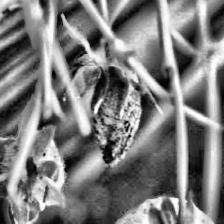Gray Mold: (70, 34, 142, 168)
